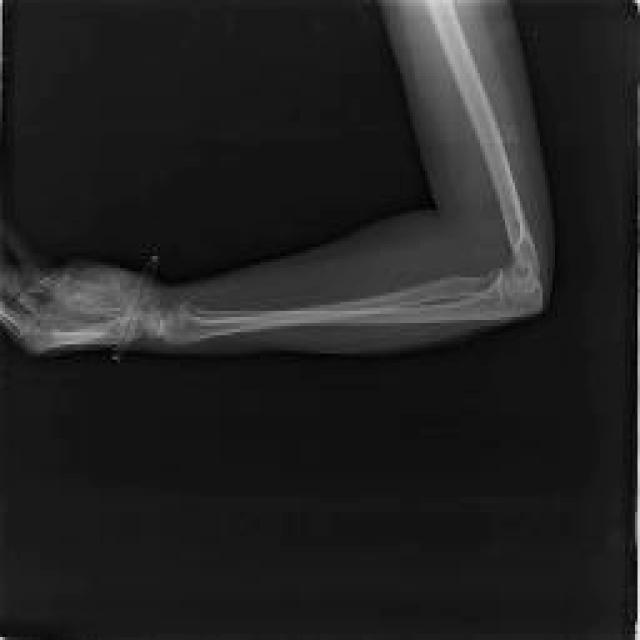normal: (0, 0, 542, 353)
